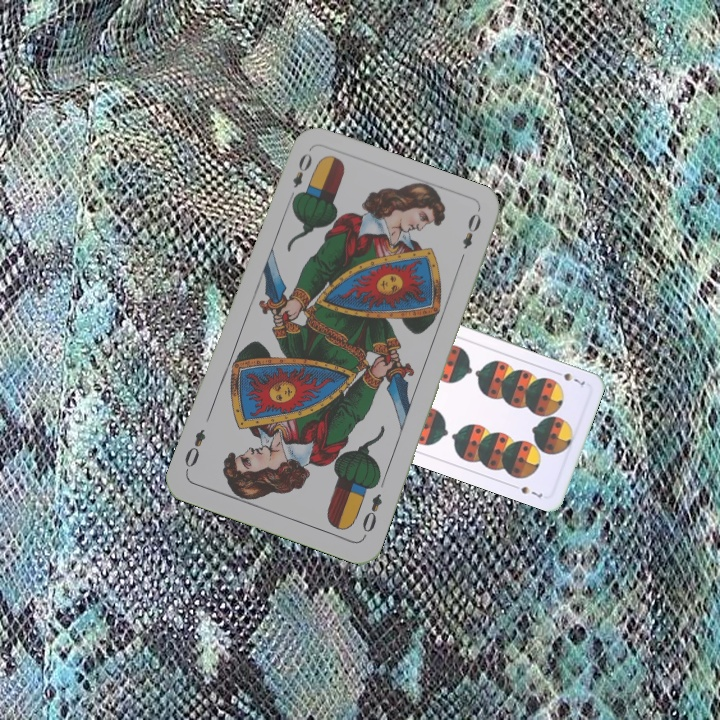EO: (286, 148, 315, 205), (358, 489, 385, 535)
S7: (550, 367, 588, 388)
